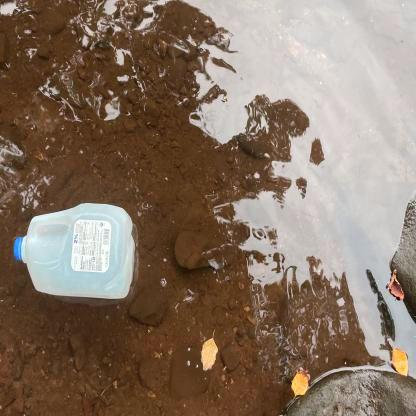Plastic: (9, 198, 144, 306)
